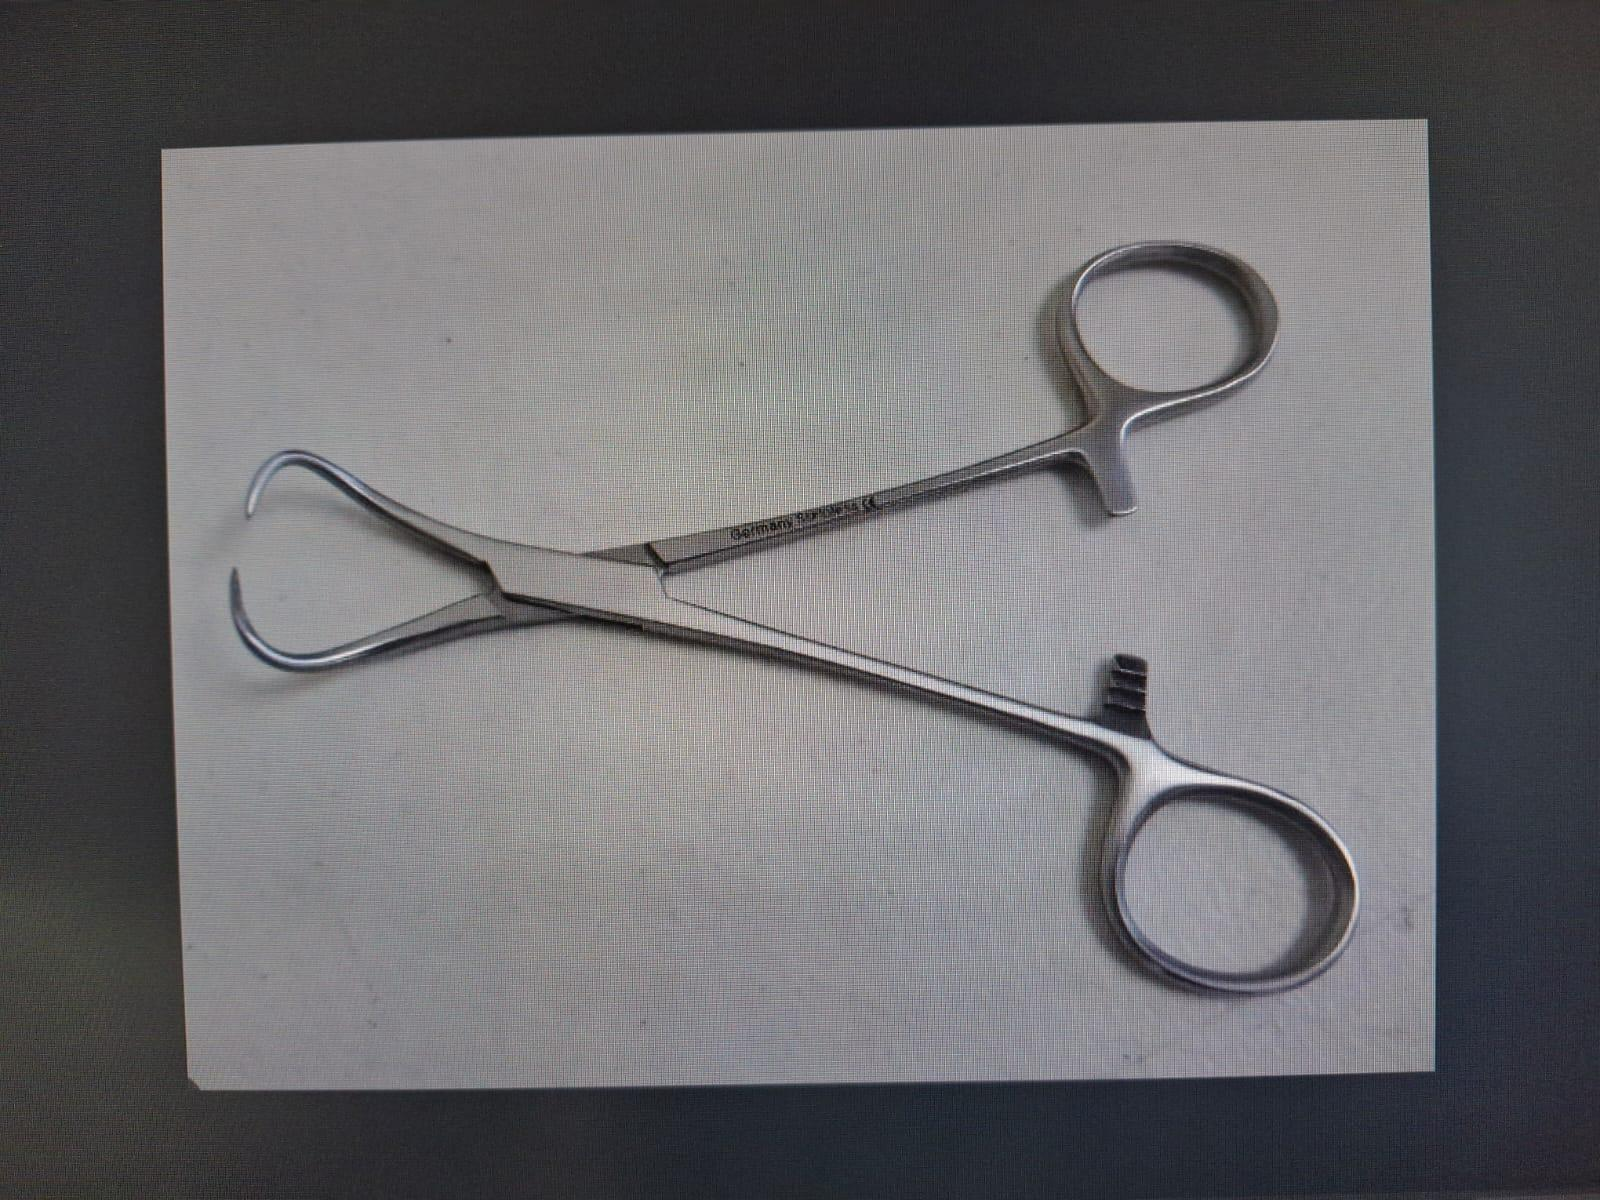Backhaus: (200, 228, 1393, 1005)
